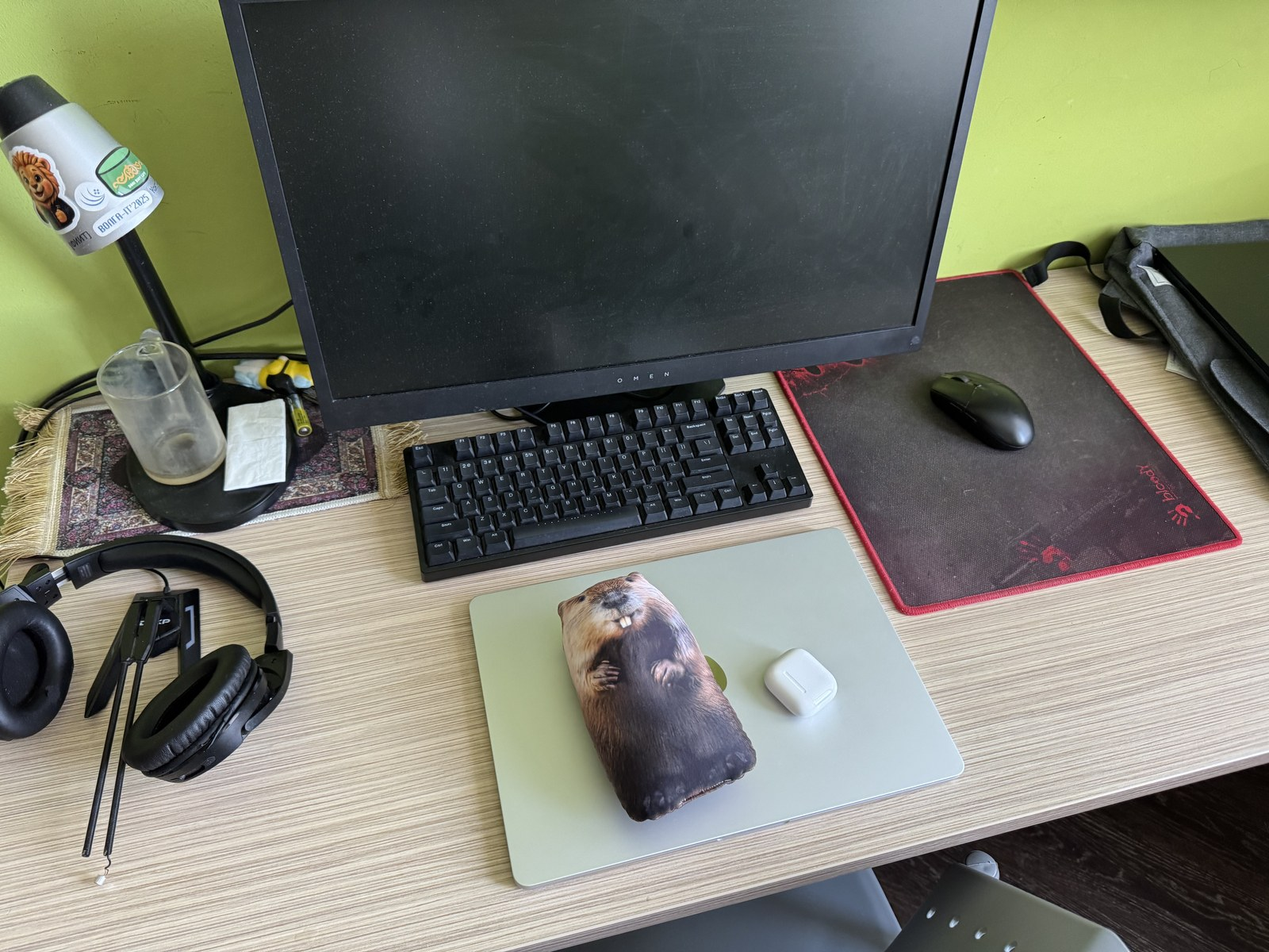laptop: (466, 526, 967, 889), (1153, 238, 1268, 380)
